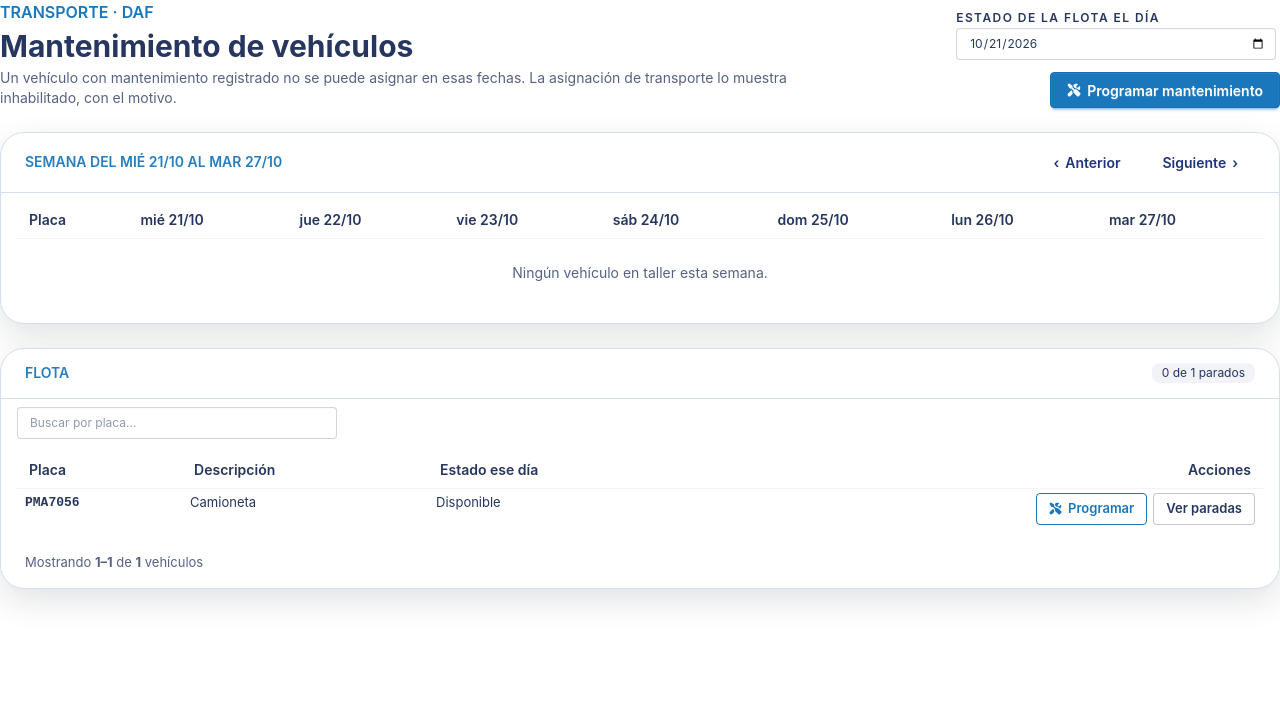
Fase 5 · estado de la cita de taller › una cita LISTA es final: no ofrece transiciones
Click the button "Ver paradas".
click(1204, 509)  # box [1153,493,1255,525]
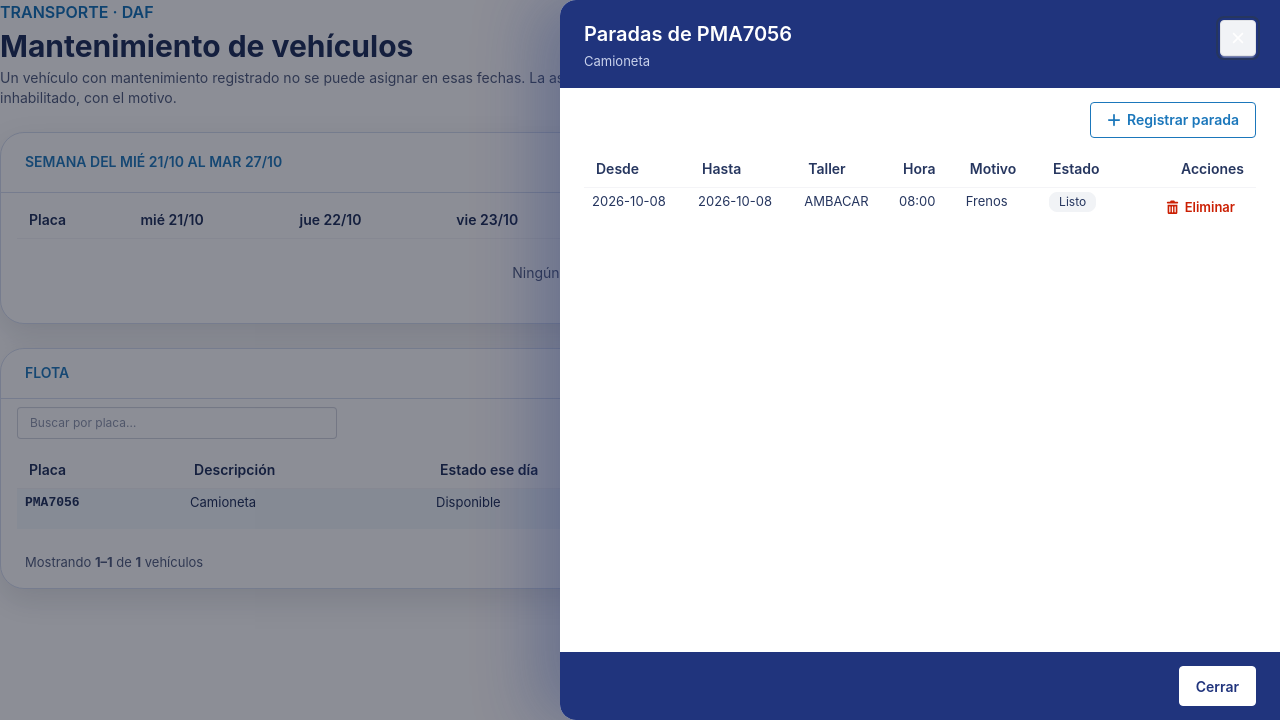
Expected: the text "Listo" is shown, [1049,192,1096,212]
